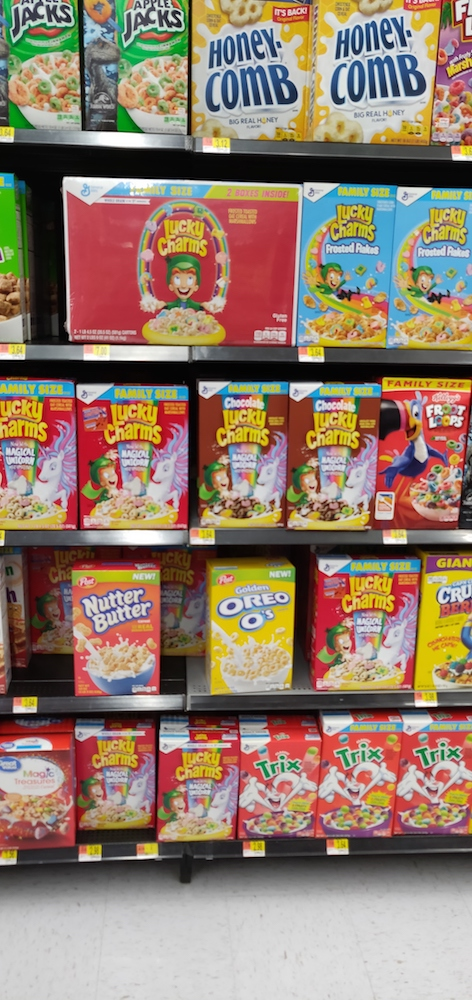Dippin Dots Banana-568929376: (214, 566, 299, 689)
Nutter Butter-565717511: (71, 554, 157, 698)
